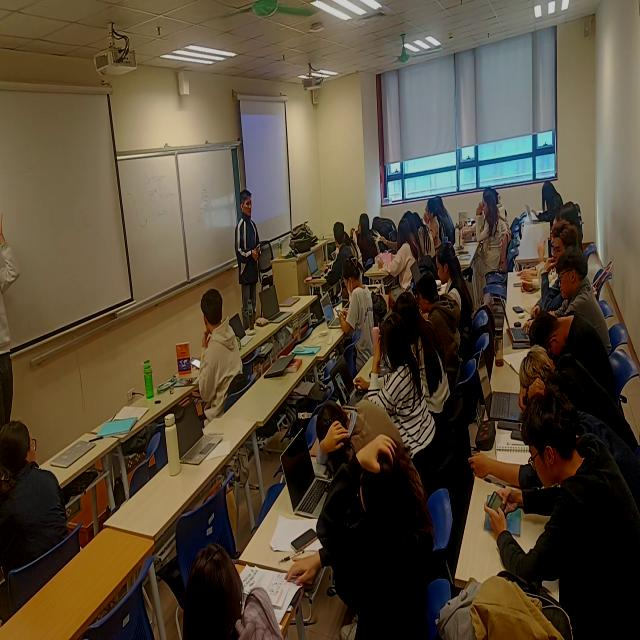raise_hand: (475, 193, 504, 278), (352, 211, 377, 268)
raise_head: (184, 278, 253, 434), (549, 212, 564, 246)
read: (531, 177, 568, 235)
sleep: (514, 343, 640, 453), (313, 397, 427, 518), (529, 308, 619, 399), (373, 214, 399, 252), (369, 227, 388, 257)
stand: (1, 207, 25, 425), (232, 189, 266, 329)
using_computer: (499, 247, 614, 362), (435, 241, 476, 342)
using_phone: (479, 382, 640, 640), (333, 309, 443, 489), (334, 255, 377, 372)
